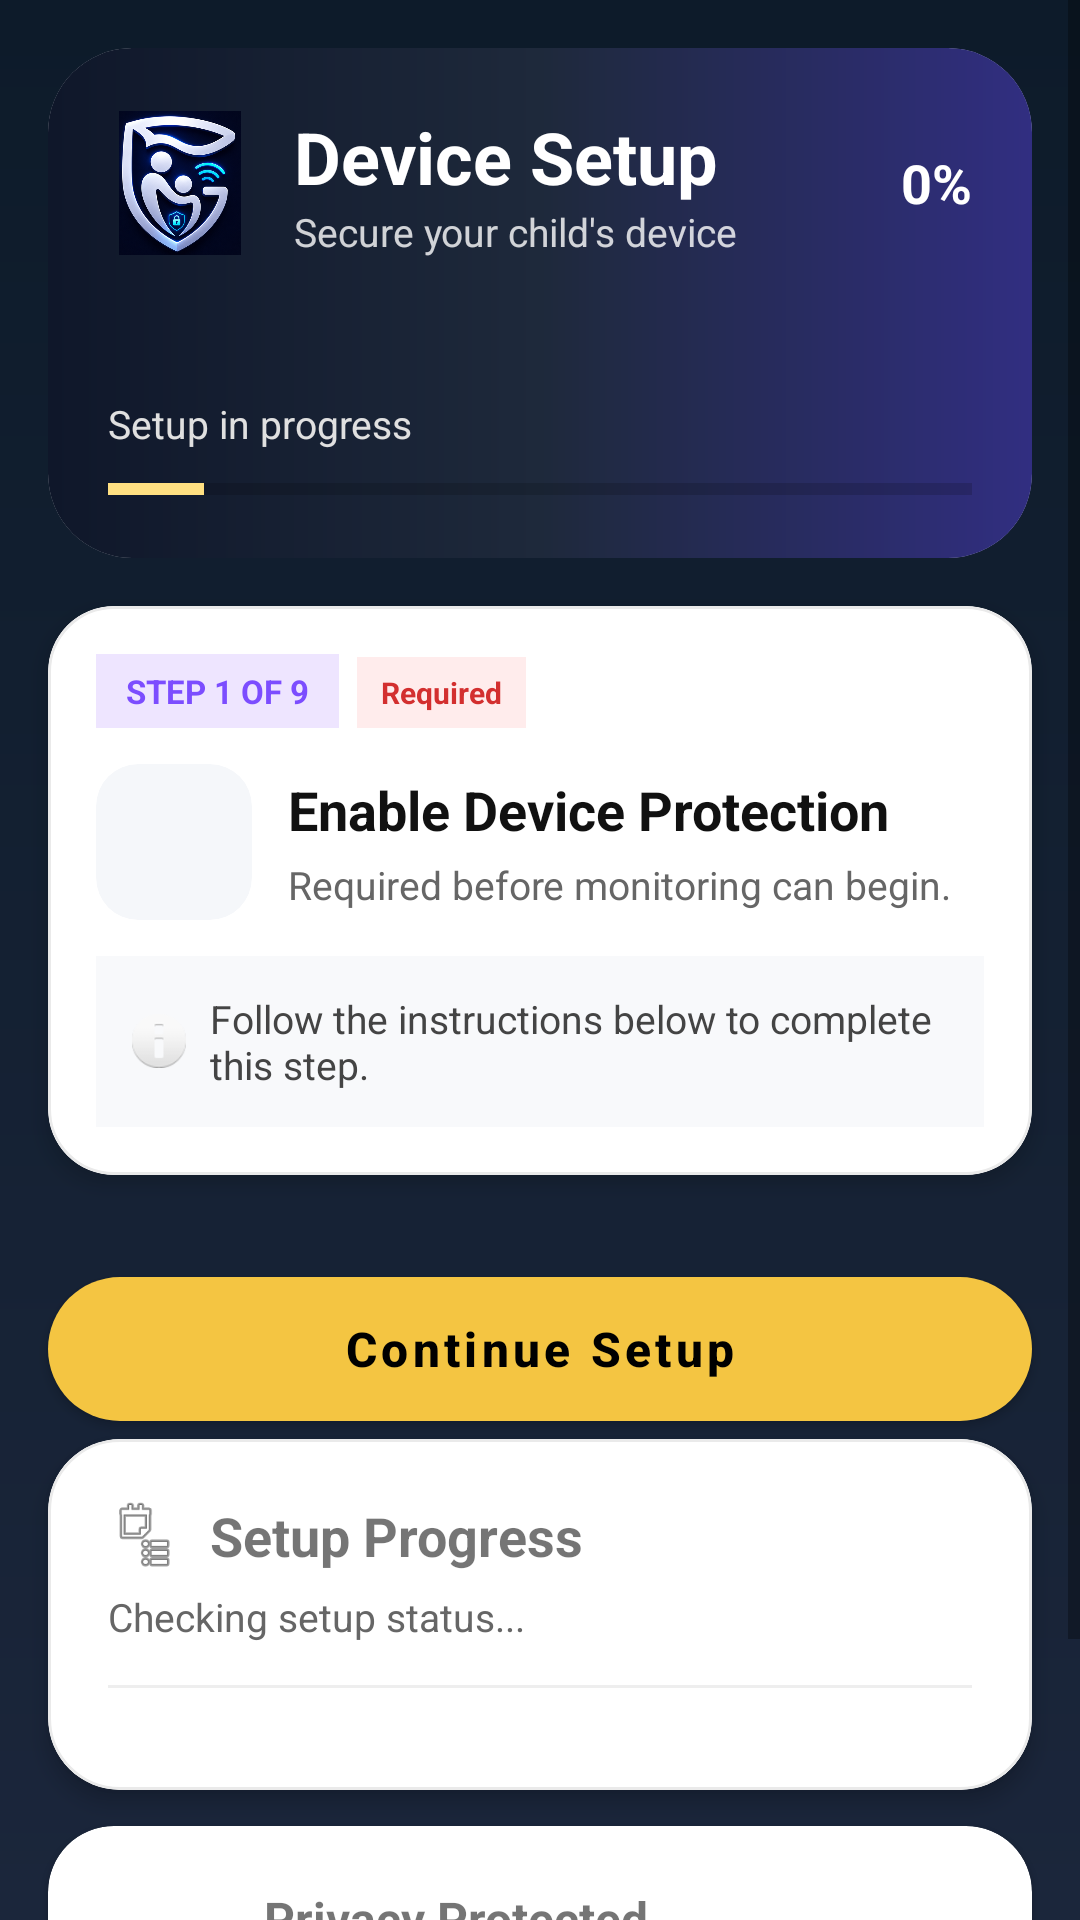

Icons on this 1080px x 1920px Android screen, each with the point to tap as (x,y):
Info: (159,1046)
